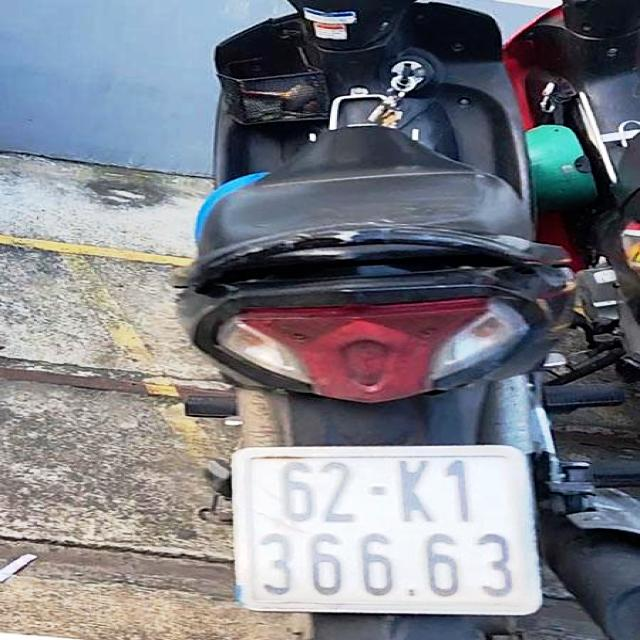license_plate: (245, 451, 539, 617)
